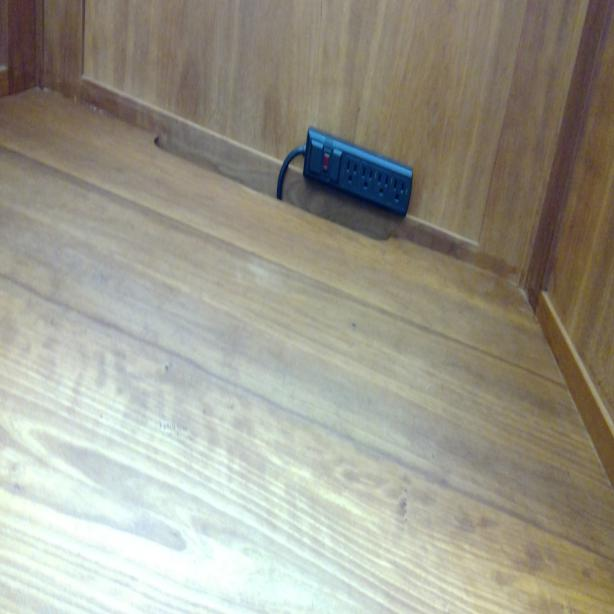typeb: (343, 157, 359, 188), (376, 170, 390, 202), (392, 177, 406, 208), (363, 163, 374, 197)
